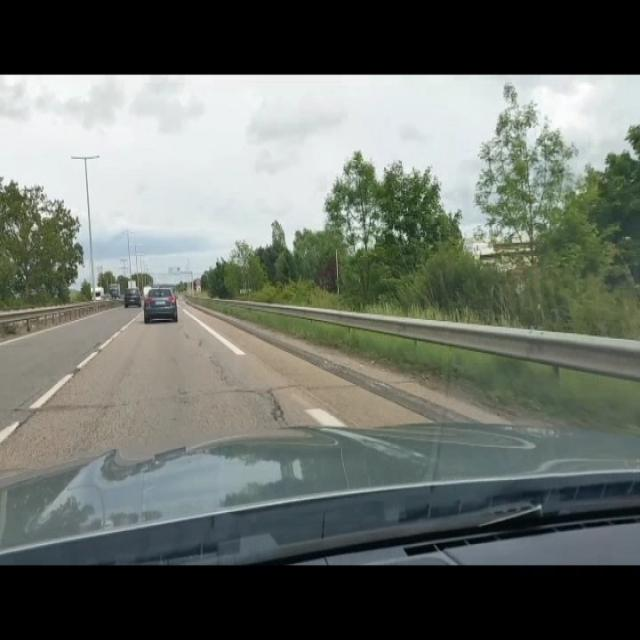direction: (167, 263, 181, 274)
